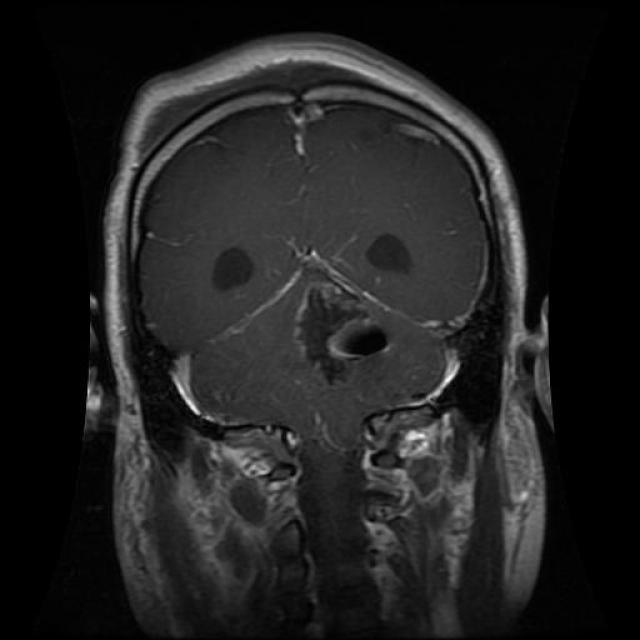glioma: (292, 283, 402, 387)
